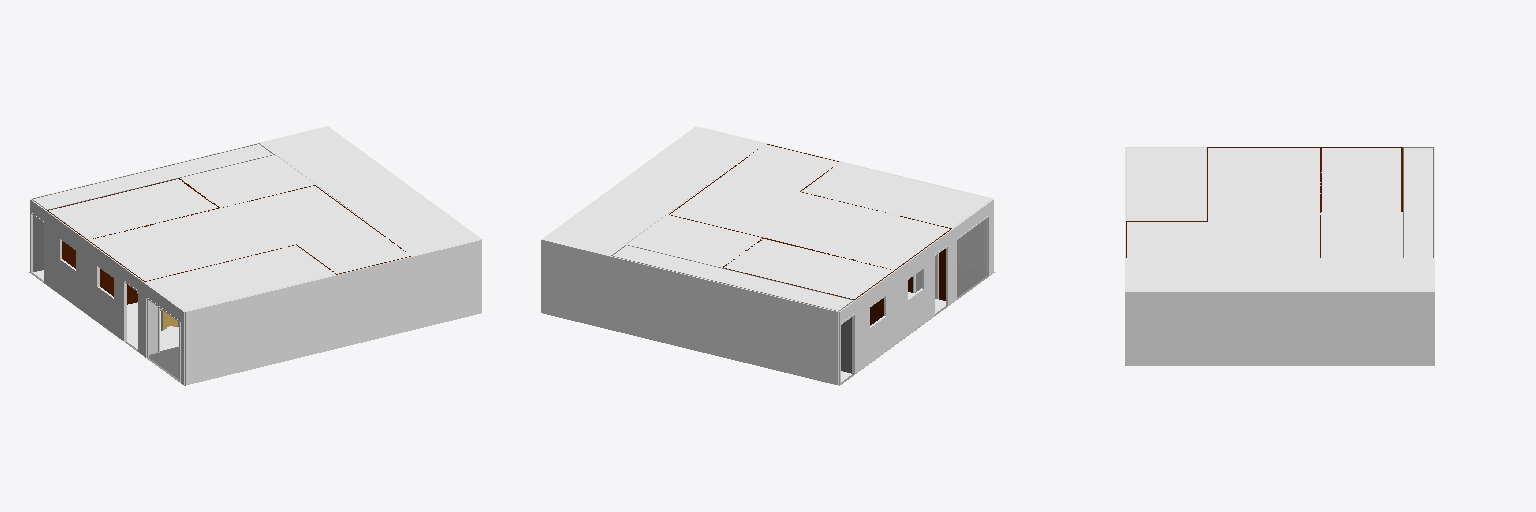
File: Modelo casa.obj
3 views of the same model, side by side, from view 1: azimuth 30°, elevation 25°; view 2: azimuth 150°, elevation 25°; view 3: azimuth 270°, elevation 25° (orthographic).
Visible parts, largest first — view 1: room_24_129, wall_18_107, room_28_137, room_25_131, wall_19_113, wall_20_119, room_21_123, room_23_127, room_22_125, room_26_133, wall_17_100, wall_15_88 (+5 smaller); view 2: wall_12_70, room_24_129, room_28_137, room_25_131, room_21_123, wall_13_76, room_23_127, room_22_125, room_26_133, wall_17_100, wall_15_88, room_27_135 (+4 smaller); view 3: wall_1_4, room_24_129, room_28_137, room_25_131, room_21_123, room_23_127, room_22_125, room_26_133, room_27_135.
Boxes of the visible parts, box(x1,y1,x2,y2) form: room_24_129: box(89, 186, 369, 280); wall_18_107: box(185, 275, 336, 385); room_28_137: box(261, 127, 451, 235); room_25_131: box(146, 246, 334, 310); wall_19_113: box(337, 257, 412, 348); wall_20_119: box(413, 240, 481, 329); room_21_123: box(49, 179, 217, 239); room_23_127: box(180, 156, 312, 206); room_22_125: box(33, 144, 272, 209); room_26_133: box(297, 227, 412, 273); wall_17_100: box(87, 241, 142, 354); wall_15_88: box(46, 211, 86, 313); wall_12_70: box(610, 257, 838, 385); room_24_129: box(670, 174, 949, 269); room_28_137: box(545, 147, 736, 254); room_25_131: box(803, 162, 990, 227); room_21_123: box(724, 239, 893, 298); wall_13_76: box(541, 240, 609, 329); room_23_127: box(629, 216, 761, 266); room_22_125: box(613, 245, 852, 310); room_26_133: box(726, 144, 838, 191); wall_17_100: box(897, 229, 953, 342); wall_15_88: box(856, 271, 896, 372); room_27_135: box(671, 127, 762, 162); wall_1_4: box(1126, 292, 1434, 365); room_24_129: box(1208, 148, 1321, 257); room_28_137: box(1180, 259, 1432, 290); room_25_131: box(1127, 148, 1205, 220); room_21_123: box(1322, 148, 1400, 211); room_23_127: box(1322, 212, 1400, 257); room_22_125: box(1404, 148, 1432, 257); room_26_133: box(1127, 222, 1207, 258); room_27_135: box(1127, 259, 1180, 290).
Bounding box in the file's own units: 1064 × 250 × 958.